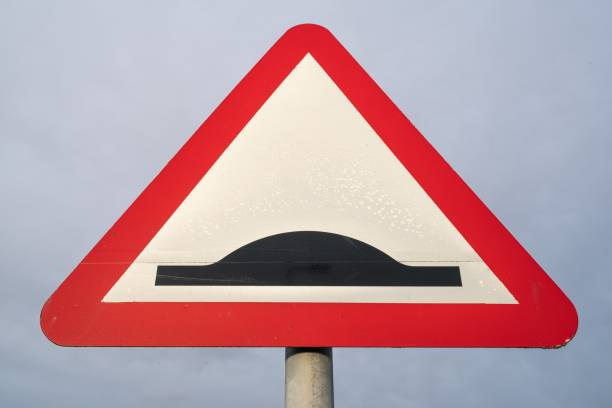speed-breaker: (110, 49, 521, 340)
